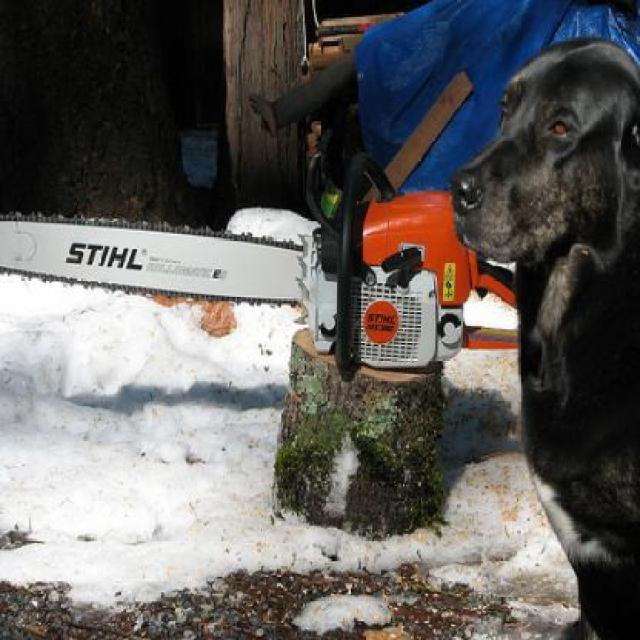Chainsaw: (0, 122, 523, 378)
